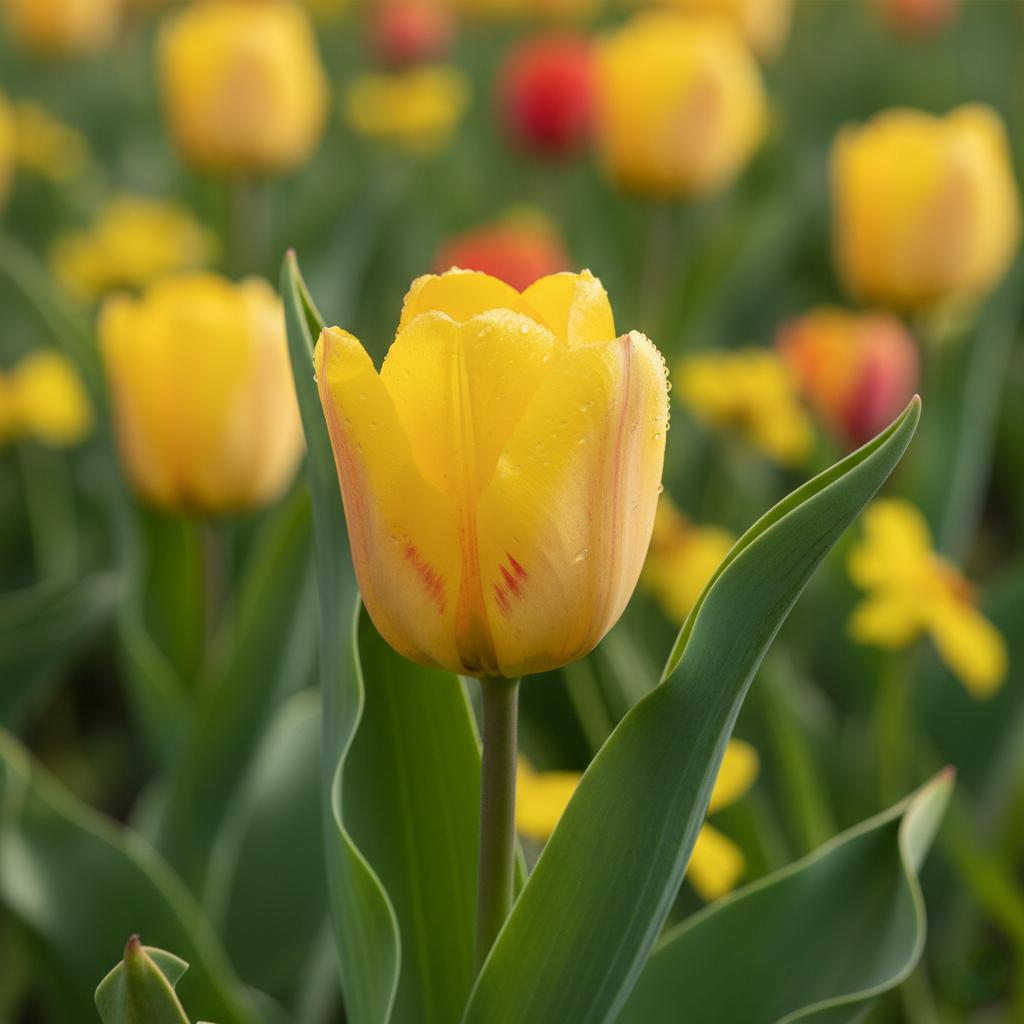tulip: (309, 263, 672, 680)
